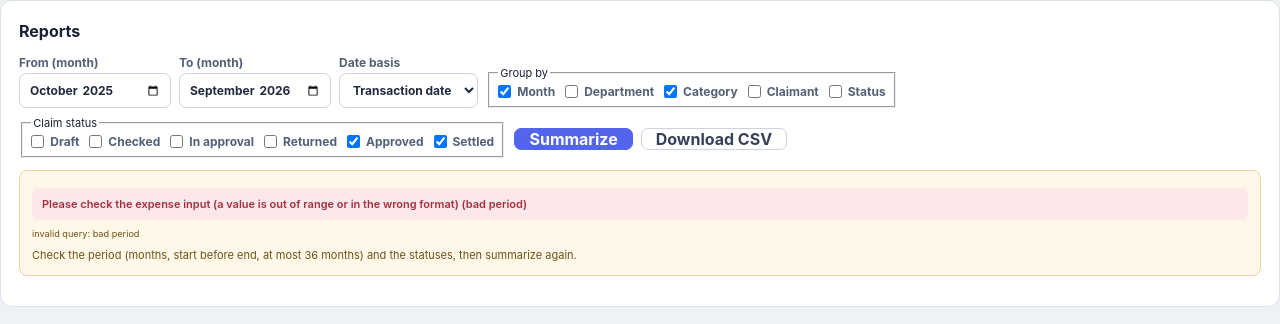
it: ReportsLedger › 異常: 400 は原因の詳細と直し方を平易に出す（グループの誤りと期間の誤りで文言を分ける）
This screenshot has width=1280, height=324.
Check: the text "invalid query: bad period" is shown, box [32,228,140,239]
Check: the text "Check the period (months, start before end, at most 36 months)" is shown, box [32,248,577,262]
Click the button "Summarize" at coordinates (574, 139), box [514,128,633,150]
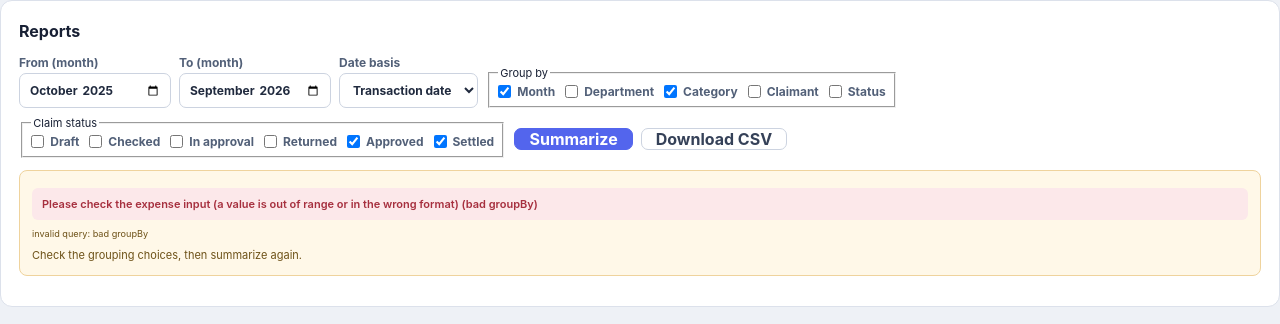
Check: the text "Check the grouping choices, then summarize again." is shown, box [32,248,302,262]
Click the button "Download CSV" at coordinates (714, 139), box [641,128,787,150]
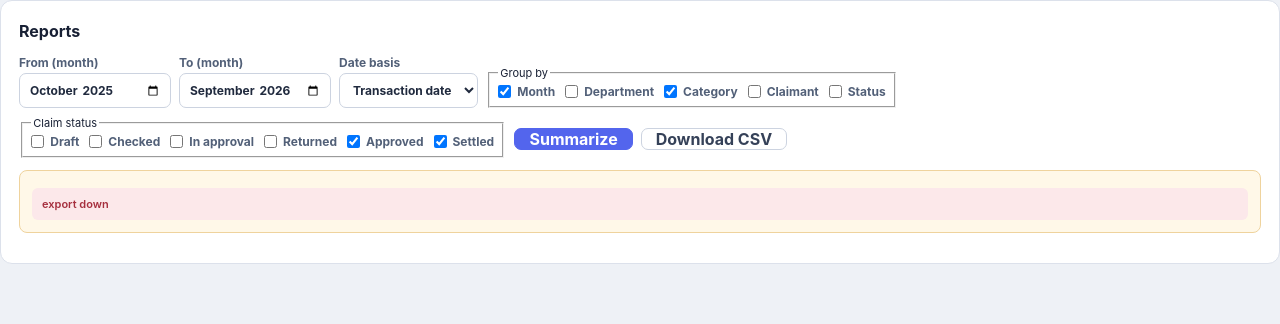
Check: the text "export down" is shown, box [32,188,1248,220]
